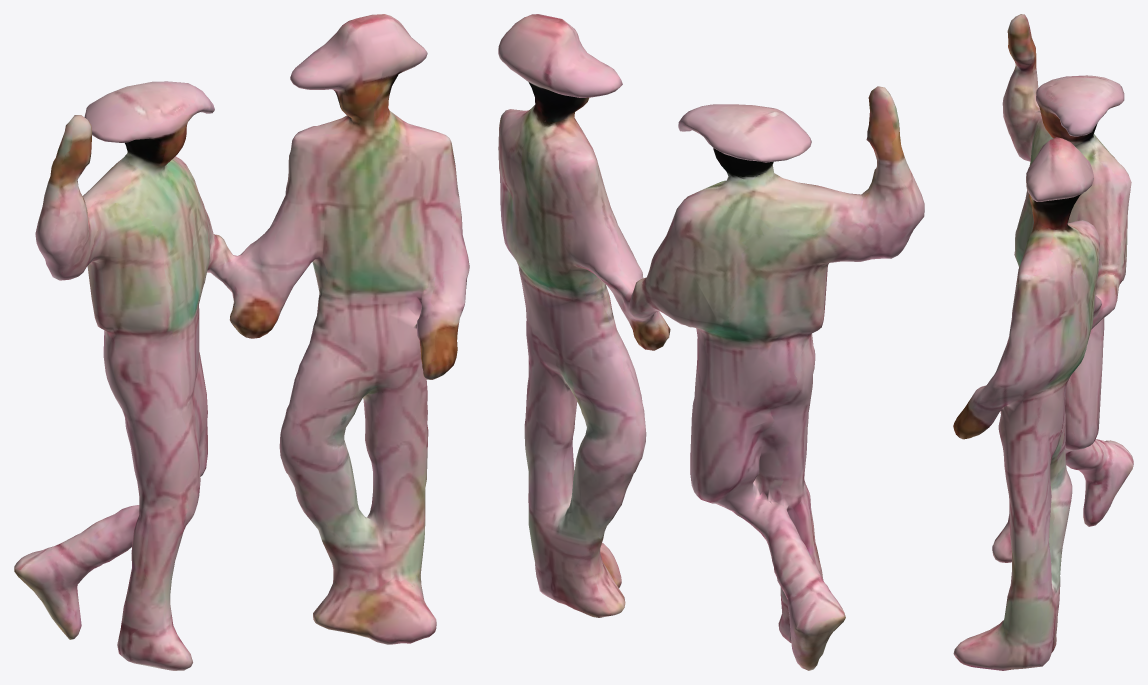
Rendered from emergence.glb.
3 views of the same model, side by side, from view 1: azimuth 30°, elevation 25°; view 2: azimuth 150°, elevation 25°; view 3: azimuth 270°, elevation 25° (orthographic). The views are drawn at different scales.
Parts seen in each view (by area): view 1: mesh; view 2: mesh; view 3: mesh.
Part boxes in pixels (x1,y1,x2,y2): mesh: (14,14,469,670); mesh: (498,14,924,670); mesh: (953,14,1133,670).
Bounding box in the file's own units: 1.28 × 1.73 × 0.5402.
Materials: 1 (1 with a texture image).
